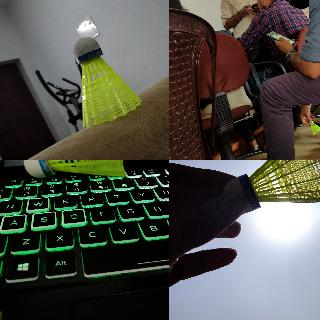shuttlecock: (73, 36, 141, 128), (222, 160, 319, 213), (23, 160, 130, 178), (309, 120, 319, 135)
